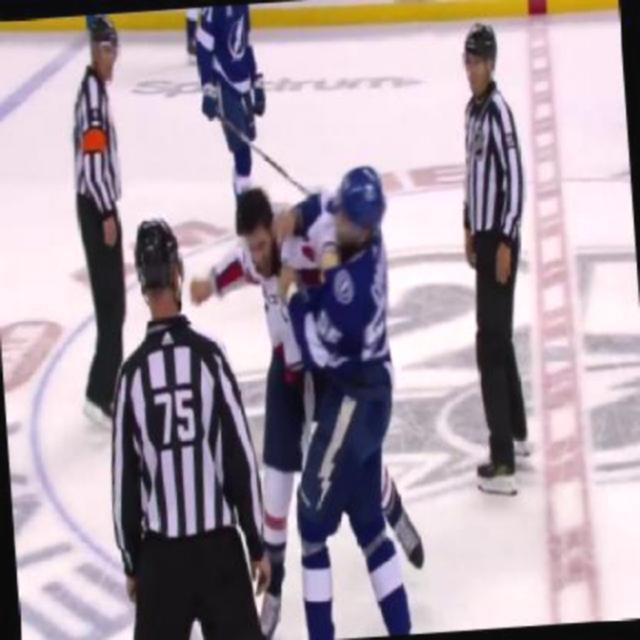fight: (190, 162, 418, 638)
